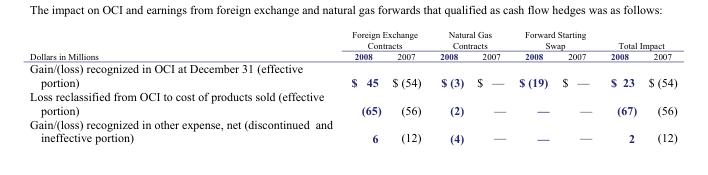table: (29, 29, 676, 144)
table column: (29, 29, 341, 144), (554, 29, 600, 144), (341, 29, 386, 144), (386, 29, 429, 144), (511, 29, 554, 144), (469, 29, 511, 144), (600, 29, 641, 144), (429, 29, 469, 144), (641, 29, 676, 144)
table column header: (29, 29, 676, 61)
table row: (29, 61, 676, 89), (29, 116, 676, 144), (29, 89, 676, 116), (29, 29, 676, 50), (29, 50, 676, 61)
table spanning cell: (29, 29, 341, 61), (511, 29, 600, 50), (341, 29, 429, 50), (429, 29, 511, 50), (600, 29, 676, 50)
